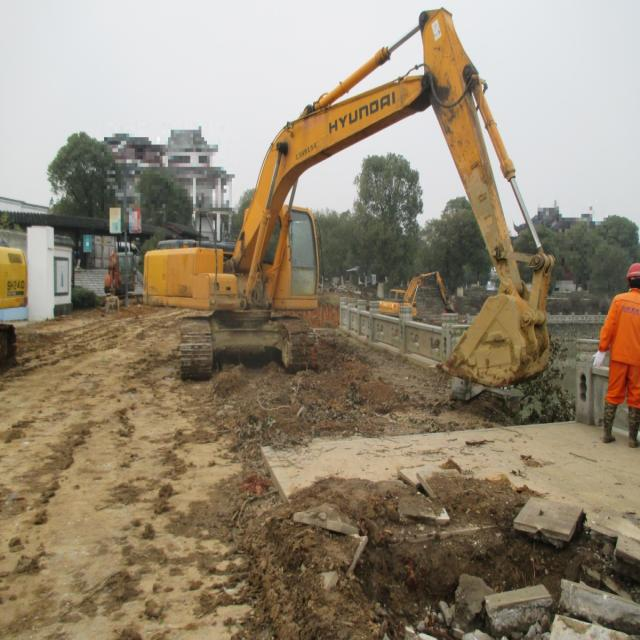excavator: (142, 6, 555, 388), (378, 271, 457, 322), (0, 243, 28, 378), (94, 249, 144, 309)
